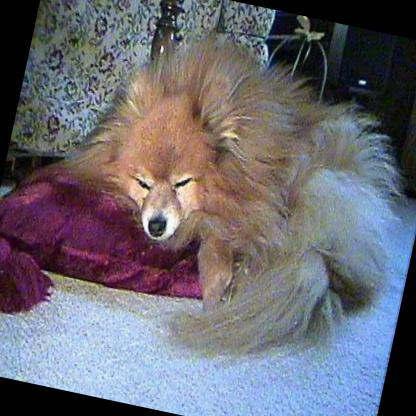Pomeranian: (28, 3, 416, 390)
